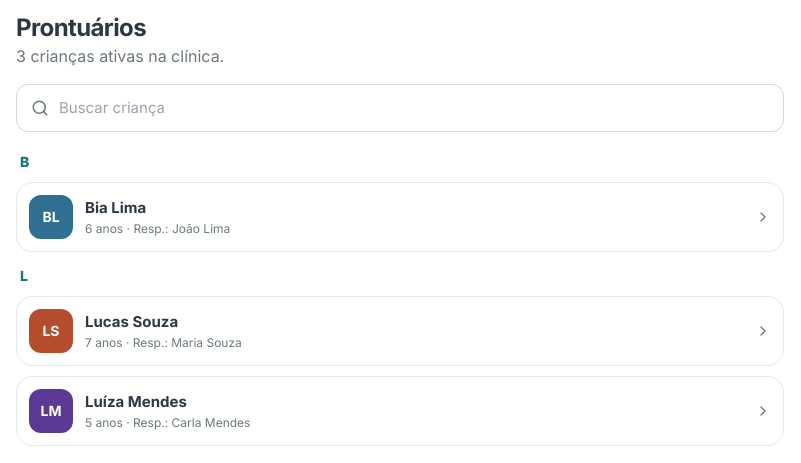
Test: a coordenação e o admin veem todas as crianças ativas, com idade e responsável, e buscam sem acento
The image size is (801, 463).
Check: the link "LS Lucas Souza 7 anos · Resp.: Maria Souza" is shown, box x1=16 y1=296 x2=784 y2=366
Check: the headings read "B", "L", in this order, box x1=20 y1=153 x2=30 y2=170; x1=20 y1=267 x2=28 y2=284
Type "lui" into the search field labelled "Buscar criança" at (414, 108), box x1=59 y1=96 x2=769 y2=120
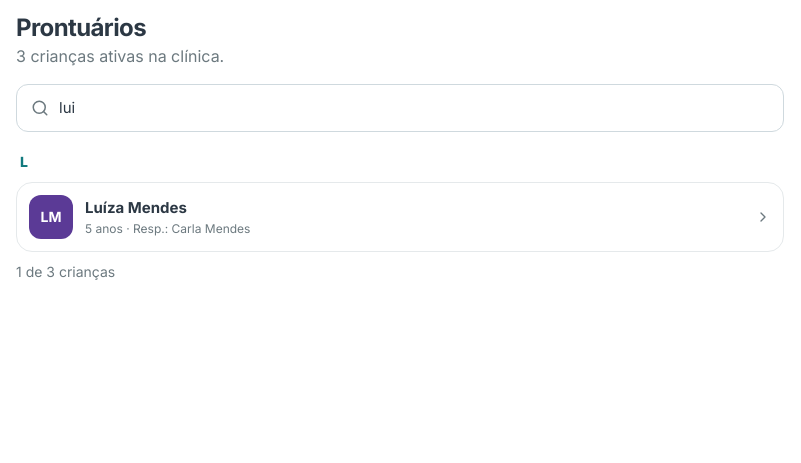
Check: the number of links is 1, box x1=16 y1=182 x2=784 y2=252
Check: the text "1 de 3 crianças" is shown, box x1=16 y1=263 x2=115 y2=280
